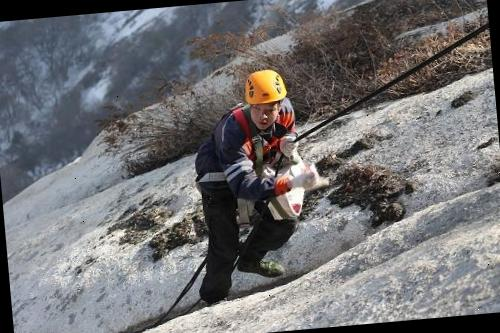helmet: (239, 65, 294, 107)
wear: (192, 119, 302, 184)
